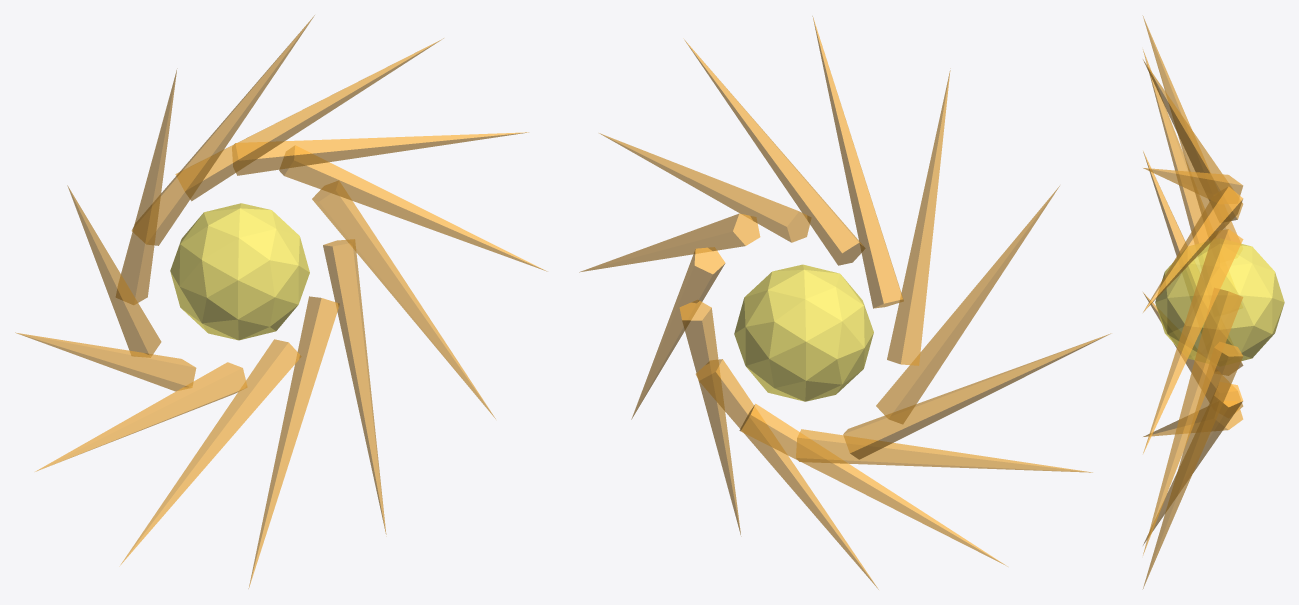
The model's file is vfx_impact_burst_large.glb.
3 views of the same model, side by side, from view 1: azimuth 30°, elevation 25°; view 2: azimuth 150°, elevation 25°; view 3: azimuth 270°, elevation 25° (orthographic). The views are drawn at different scales.
Visible parts, largest first — view 1: core, ray_ray_3, ray_ray_0, ray_ray_11, ray_ray_2, ray_ray_4, ray_ray_1, ray_ray_5, ray_ray_10, ray_ray_6, ray_ray_9, ray_ray_8 (+1 smaller); view 2: core, ray_ray_9, ray_ray_6, ray_ray_5, ray_ray_8, ray_ray_7, ray_ray_10, ray_ray_11, ray_ray_4, ray_ray_0, ray_ray_3, ray_ray_2 (+1 smaller); view 3: core, ray_ray_1, ray_ray_0, ray_ray_2, ray_ray_11, ray_ray_6, ray_ray_3, ray_ray_5, ray_ray_7, ray_ray_4, ray_ray_10, ray_ray_8 (+1 smaller).
Boxes of the visible parts, <box> form: core: <box>170,203,309,340</box>; ray_ray_3: <box>232,132,528,175</box>; ray_ray_0: <box>323,239,386,536</box>; ray_ray_11: <box>248,296,339,588</box>; ray_ray_2: <box>279,146,547,271</box>; ray_ray_4: <box>175,38,443,201</box>; ray_ray_1: <box>312,181,495,418</box>; ray_ray_5: <box>131,15,314,245</box>; ray_ray_10: <box>119,339,300,566</box>; ray_ray_6: <box>116,68,177,304</box>; ray_ray_9: <box>35,362,246,471</box>; ray_ray_8: <box>15,332,196,391</box>; core: <box>734,264,873,401</box>; ray_ray_9: <box>796,429,1092,472</box>; ray_ray_6: <box>887,68,950,365</box>; ray_ray_5: <box>812,16,903,308</box>; ray_ray_8: <box>843,333,1111,459</box>; ray_ray_7: <box>876,186,1059,424</box>; ray_ray_10: <box>739,403,1007,566</box>; ray_ray_11: <box>695,359,878,589</box>; ray_ray_4: <box>683,38,864,265</box>; ray_ray_0: <box>679,300,741,536</box>; ray_ray_3: <box>599,133,810,242</box>; ray_ray_2: <box>579,213,760,272</box>; core: <box>1155,238,1284,366</box>; ray_ray_1: <box>1143,288,1243,555</box>; ray_ray_0: <box>1142,342,1243,589</box>; ray_ray_2: <box>1143,229,1243,453</box>; ray_ray_11: <box>1143,382,1243,545</box>; ray_ray_6: <box>1142,15,1240,242</box>; ray_ray_3: <box>1143,186,1243,312</box>; ray_ray_5: <box>1143,59,1243,222</box>; ray_ray_7: <box>1143,49,1208,243</box>; ray_ray_4: <box>1143,168,1243,203</box>; ray_ray_10: <box>1143,401,1243,436</box>; ray_ray_8: <box>1143,151,1243,375</box>.
Bounding box in the file's own units: 1.94 × 1.94 × 0.4836.
